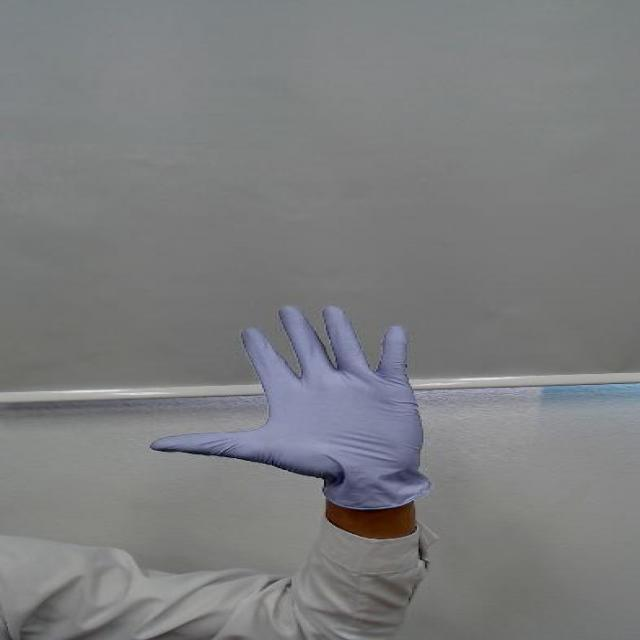Glove: (139, 305, 438, 509)
